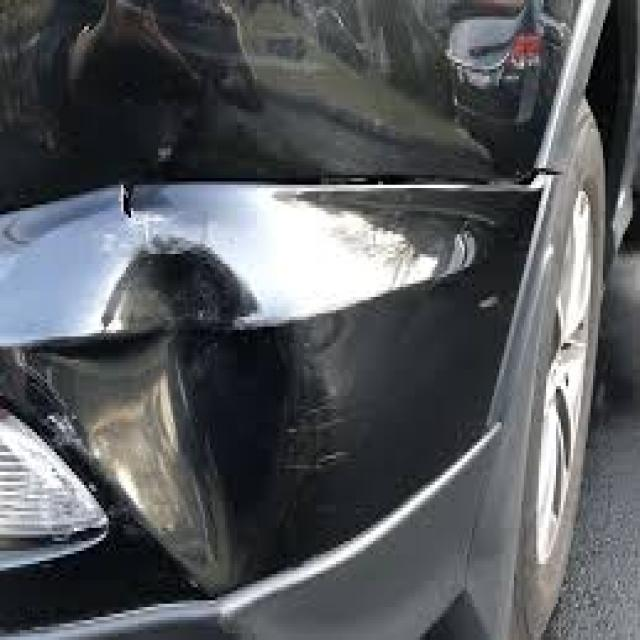minor: (54, 166, 301, 542)
